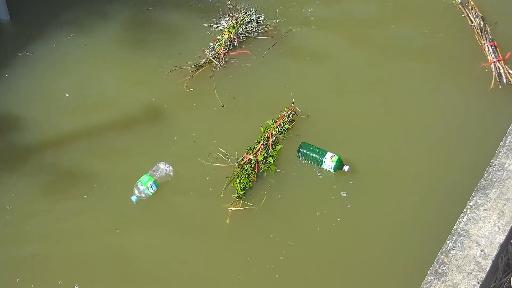plastic: (126, 162, 183, 205), (302, 144, 362, 176)
twig: (144, 7, 285, 105), (211, 90, 309, 221), (446, 2, 512, 86)
